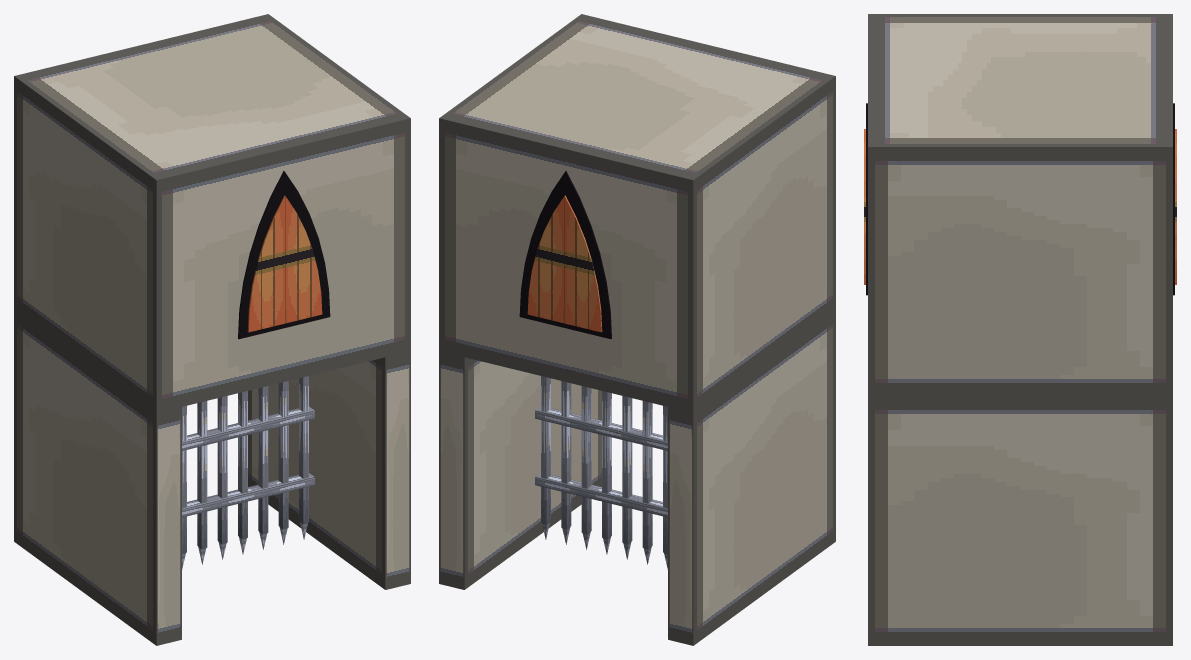
Rendered from door_boss_b.glb.
The picture shows the model from 3 angles, left to right: view 1: azimuth 30°, elevation 25°; view 2: azimuth 150°, elevation 25°; view 3: azimuth 270°, elevation 25°; orthographic projection. The views are drawn at different scales.
Visible parts, largest first — view 1: portal, grate; view 2: portal, grate; view 3: portal.
Part boxes in pixels (bbox=[...]): portal: bbox=[14, 14, 410, 645]; grate: bbox=[182, 376, 314, 569]; portal: bbox=[439, 14, 835, 645]; grate: bbox=[535, 376, 667, 569]; portal: bbox=[864, 14, 1176, 645].
Size of the model in its own units: 2 by 3.5 by 1.99.
1 material, 1 textured.
